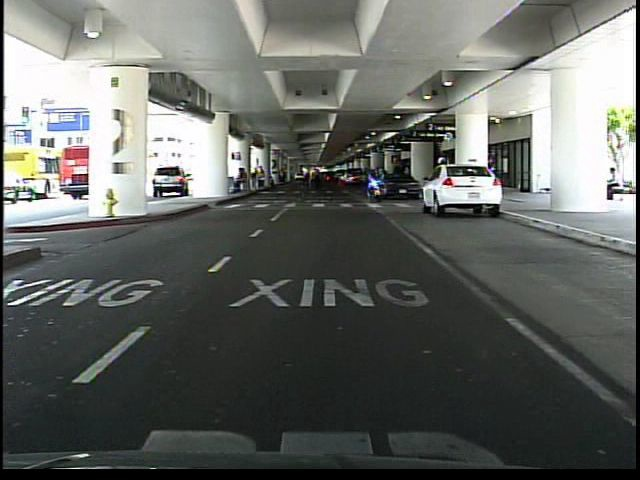person: (598, 164, 625, 201), (433, 152, 450, 210)
